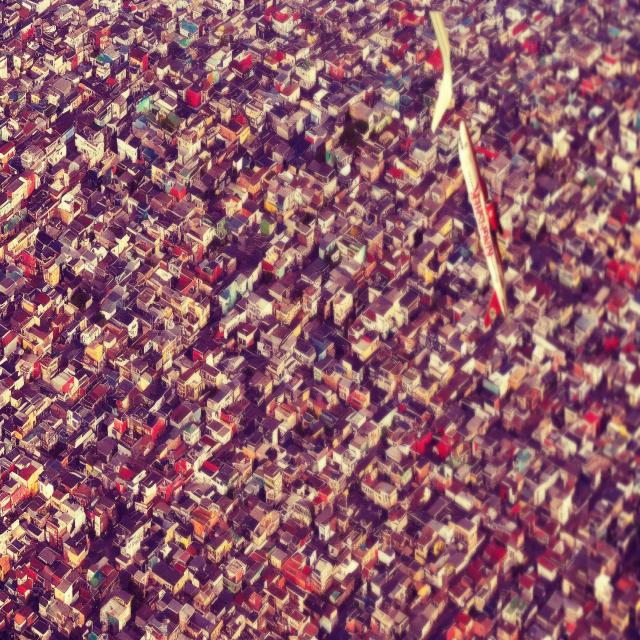airplane: (457, 119, 509, 331), (429, 12, 452, 134)
